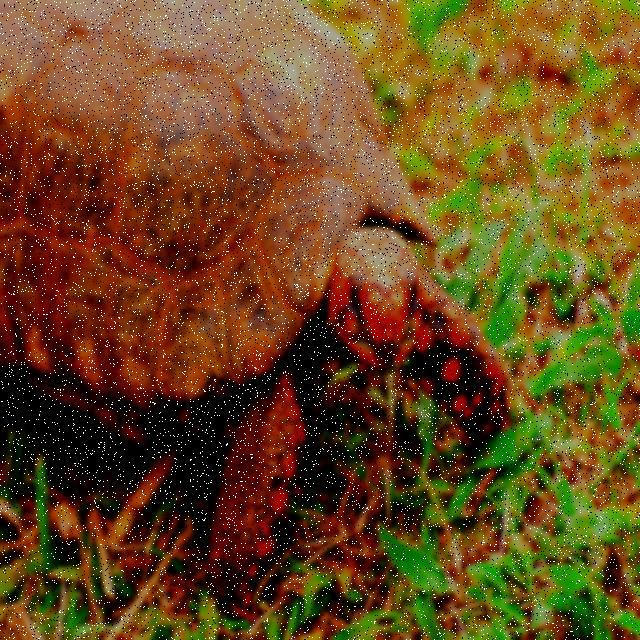tortoise: (0, 0, 532, 594)
